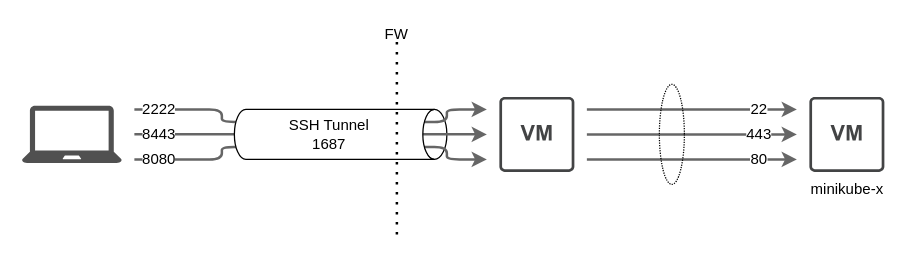
The diagram is 905 pixels wide and 258 high, and some of its shapes have lost their labels. The shapes that lost their labels are listed below. From the top down, each one's centre as x and y in pixels, then its label:
pixel 536 133: bastion (proxy)
pixel 671 133: Forwarding
